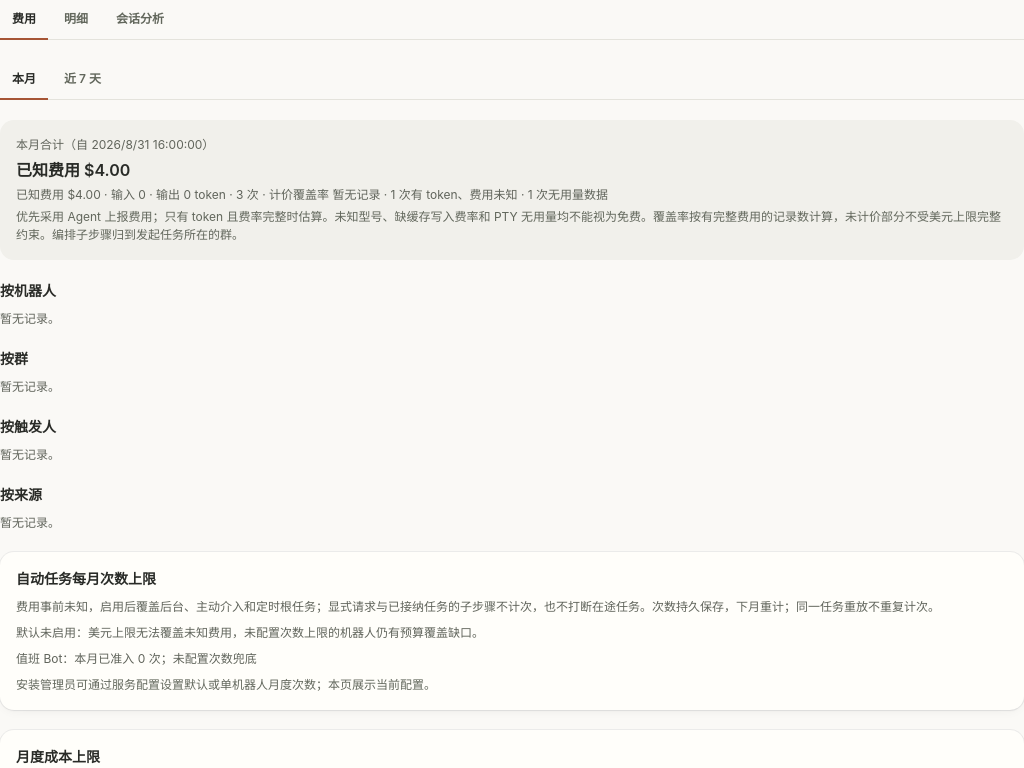
it: usage detail tab › states the daemon time zone, trends by day and shows unknown and unpriced usage apart from zero
Click the tab "明细" at (76, 20), box [52,0,100,40]
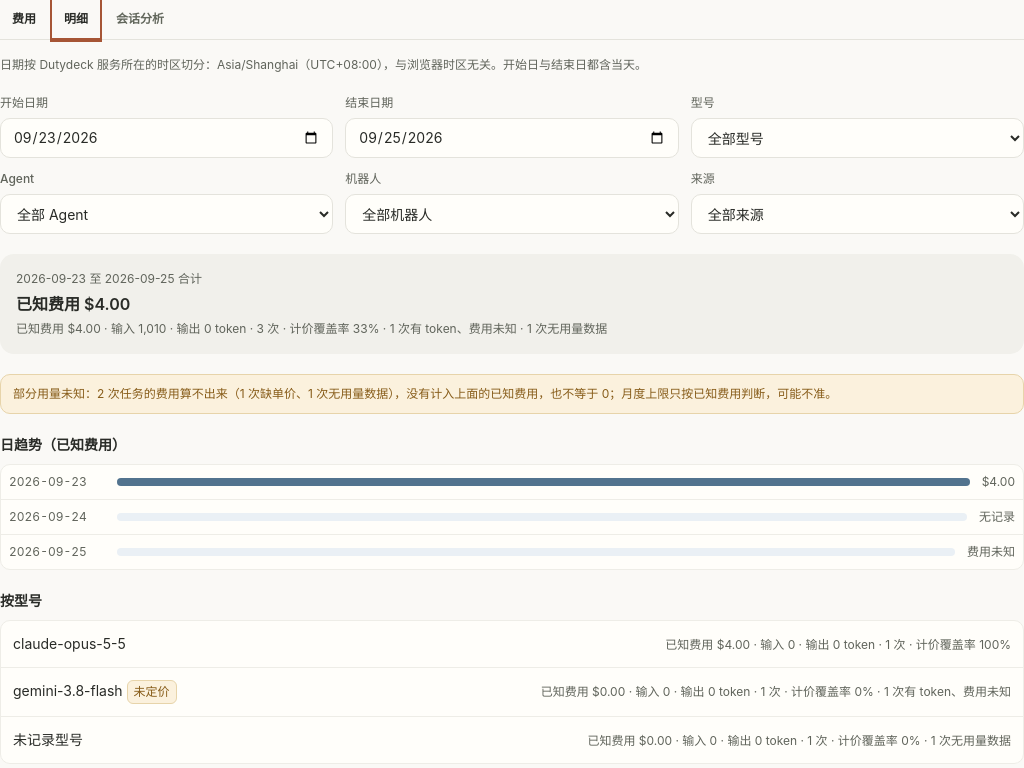
Check: the element "日趋势" does not show "$0.00"
Check: the text "Asia/Shanghai（UTC+08:00），与浏览器时区无关" is shown, box [0,57,647,72]
Check: the text "未记录型号" is shown, box [13,729,83,751]
